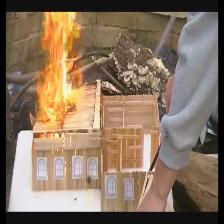fire: (34, 13, 74, 122)
